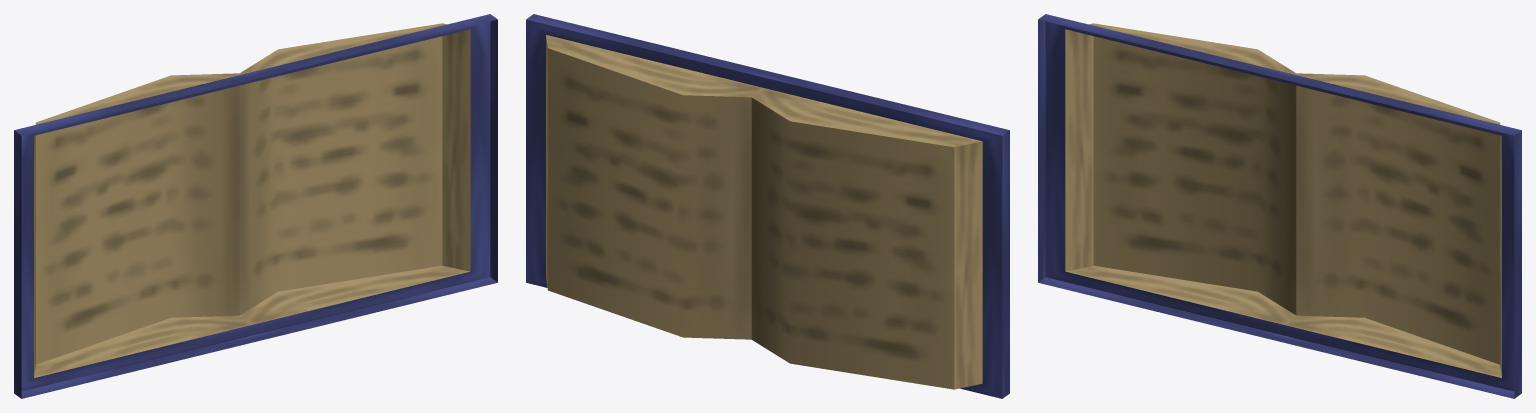
File: props_book_upside.fbx
The picture shows the model from 3 angles, left to right: view 1: azimuth 30°, elevation 25°; view 2: azimuth 150°, elevation 25°; view 3: azimuth 330°, elevation 25°; orthographic projection.
Parts seen in each view (by area): view 1: book_upside; view 2: book_upside; view 3: book_upside.
Part boxes in pixels (x1,y1,x2,y2): book_upside: (14, 14, 497, 398); book_upside: (526, 14, 1009, 398); book_upside: (1038, 14, 1521, 398).
Size of the model in its own units: 0.5673 by 0.2995 by 0.0724.
Materials: 1 (1 with a texture image).
